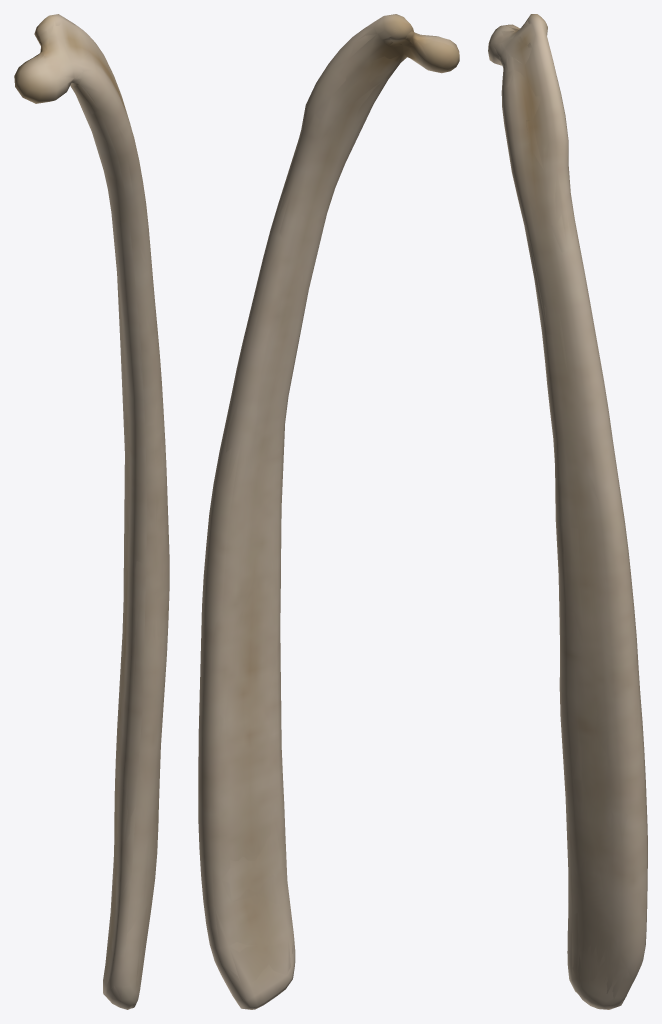
The model's file is Rib L03.fbx.
3 renders of one model, left to right at view 1: azimuth 30°, elevation 25°; view 2: azimuth 150°, elevation 25°; view 3: azimuth 270°, elevation 25°, orthographic. The views are drawn at different scales.
Visible parts, largest first — view 1: Rib L03 low, Rib L03; view 2: Rib L03, Rib L03 low; view 3: Rib L03, Rib L03 low.
Part boxes in pixels (bbox=[...]): Rib L03 low: bbox=[15, 14, 169, 1008]; Rib L03: bbox=[14, 14, 169, 1009]; Rib L03: bbox=[198, 14, 459, 1009]; Rib L03 low: bbox=[199, 15, 458, 1008]; Rib L03: bbox=[488, 14, 647, 1009]; Rib L03 low: bbox=[488, 15, 647, 1009].
Bounding box in the file's own units: 8.19 × 39.74 × 6.1.
1 material, 1 textured.
